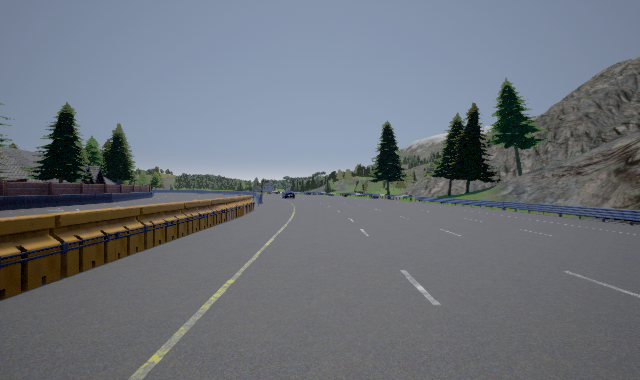vehicle: (282, 191, 296, 199)
